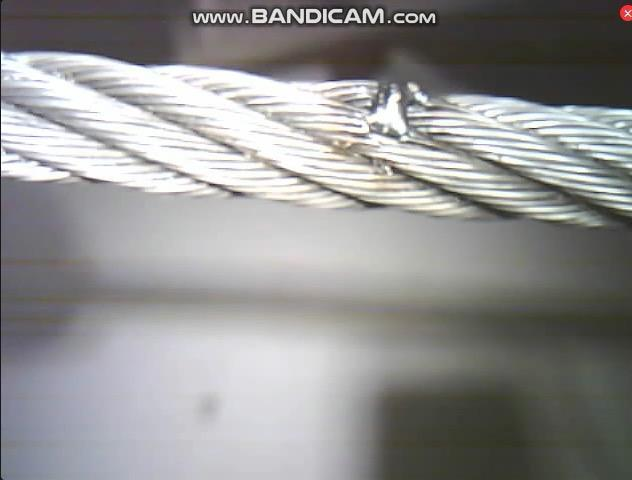thunderbolt: (340, 73, 451, 159)
